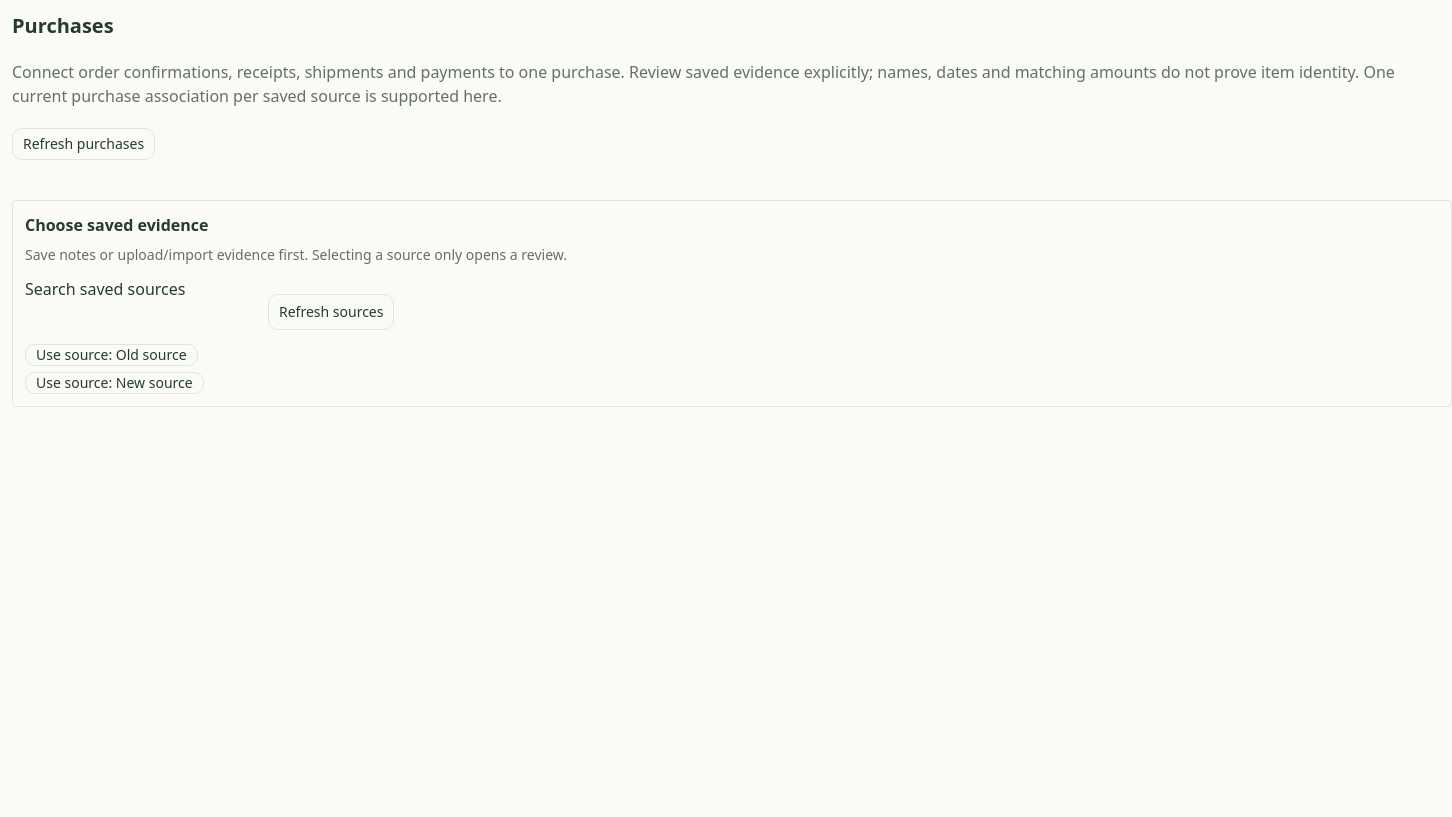
Test: ignores late source reads after a different source is selected
Click the button "Use source: Old source": [111, 355] box [25,344,198,366]
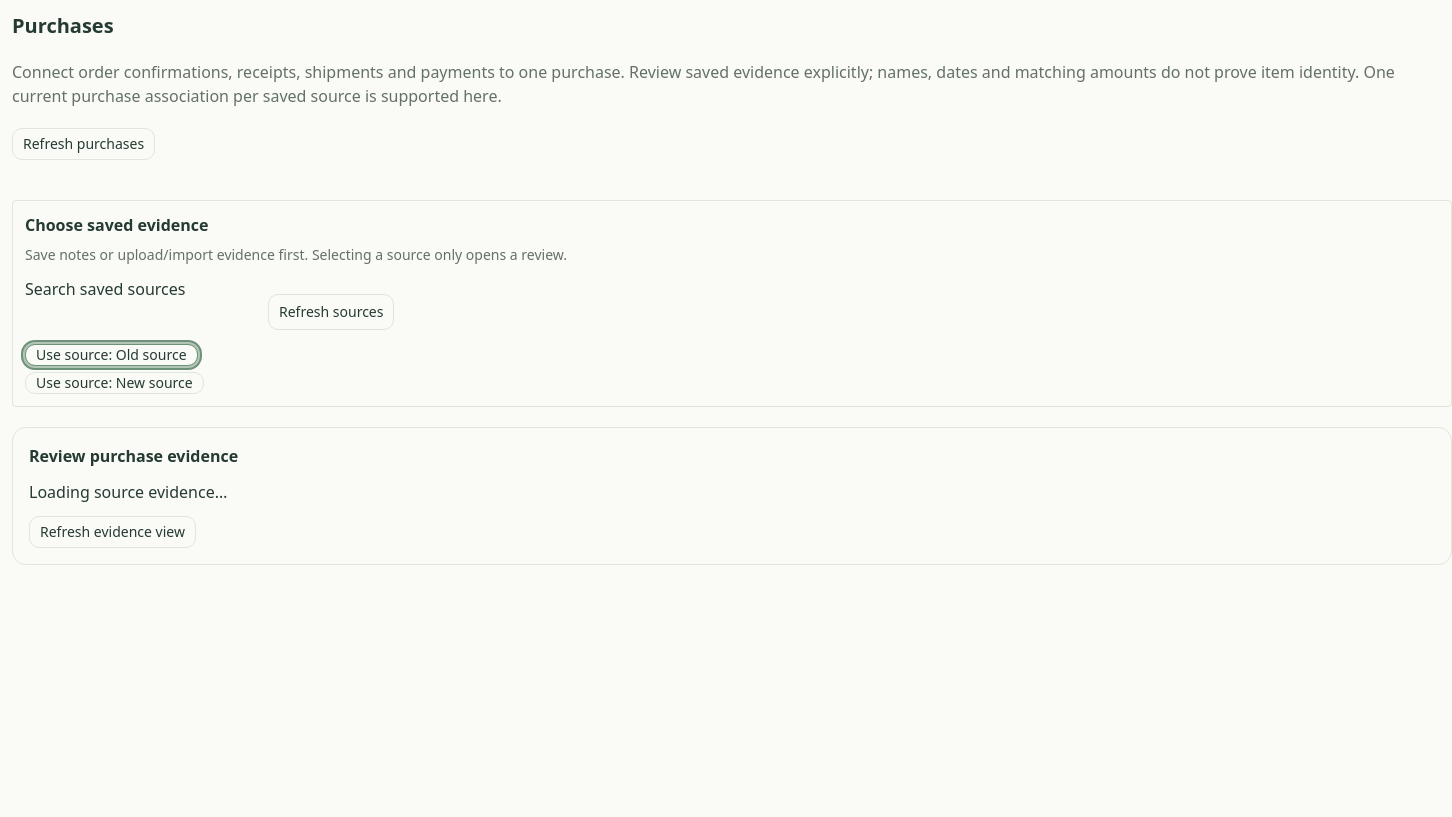
Click the button "Use source: New source": [114, 383] box [25,372,204,394]
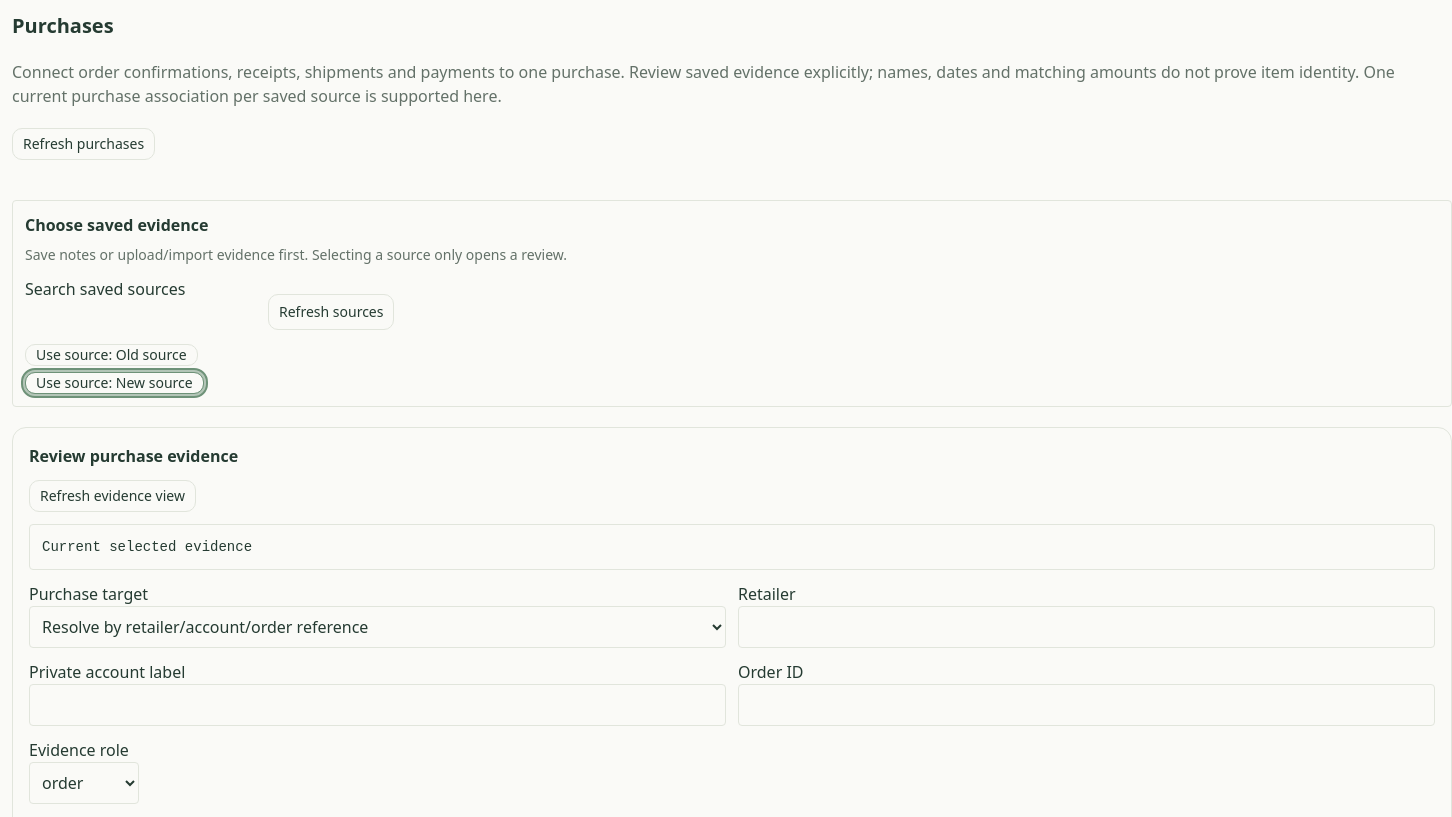
Check: the text "Current selected evidence" is shown, box [29,524,1435,570]
